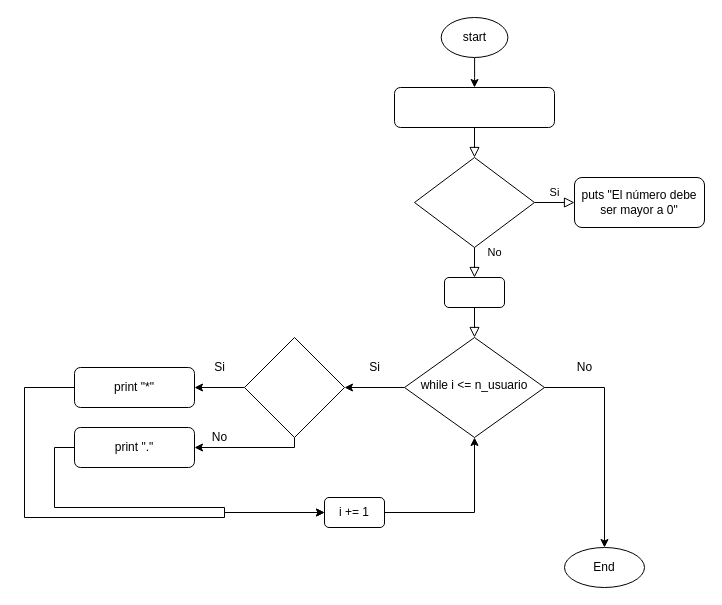
This 722x605 diagram has some shape labels left out. The shapes that lost their labels are listed below. From the top down, each one's centre as x and y in pixels, then its label:
At (474,107): "n_usuario = ARGV[0].to_i".
At (474,202): "if n_usuario < 0".
At (474,292): "i = 0".
At (294,387): "if i.odd?".
